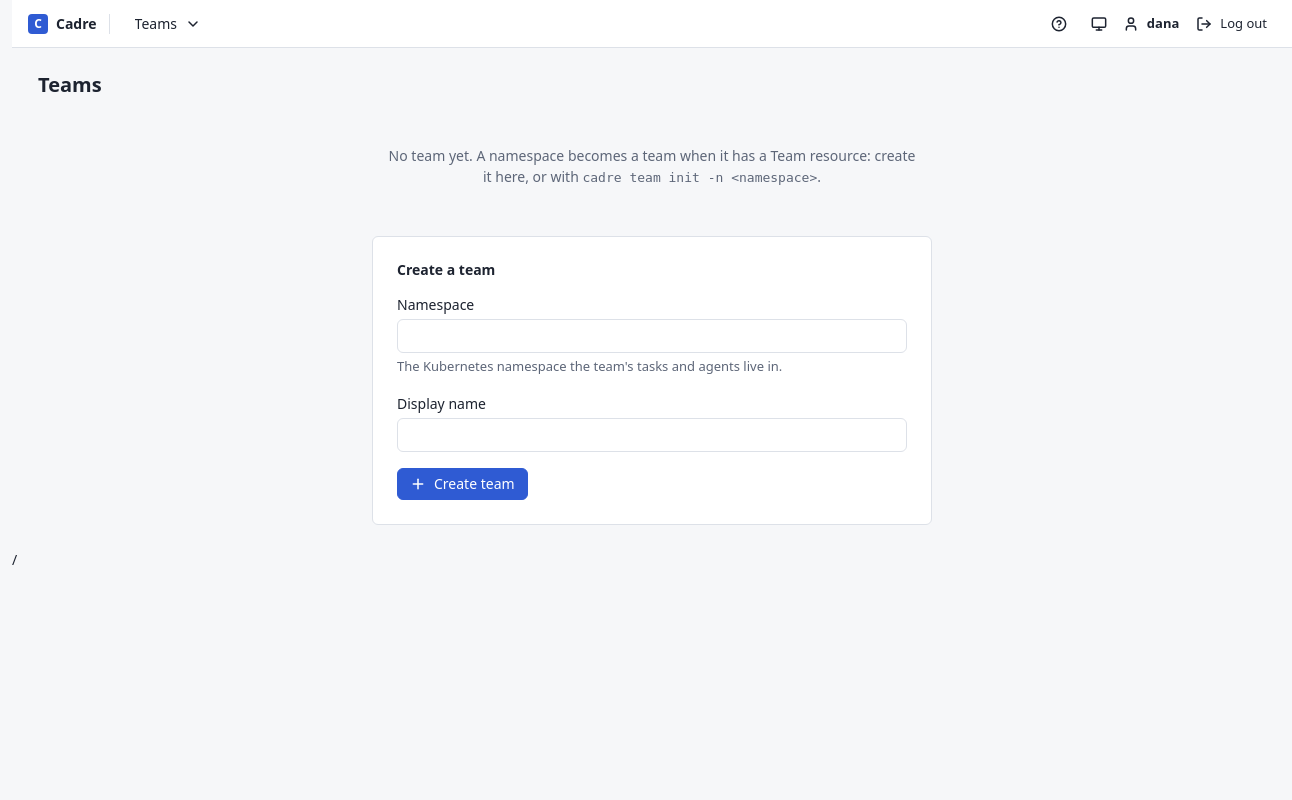
Test: Teams, with no team yet › says when the namespace already has a Team, with a link to it
Type "x" into the field labelled "Namespace" at (652, 336), box [397,319,907,353]
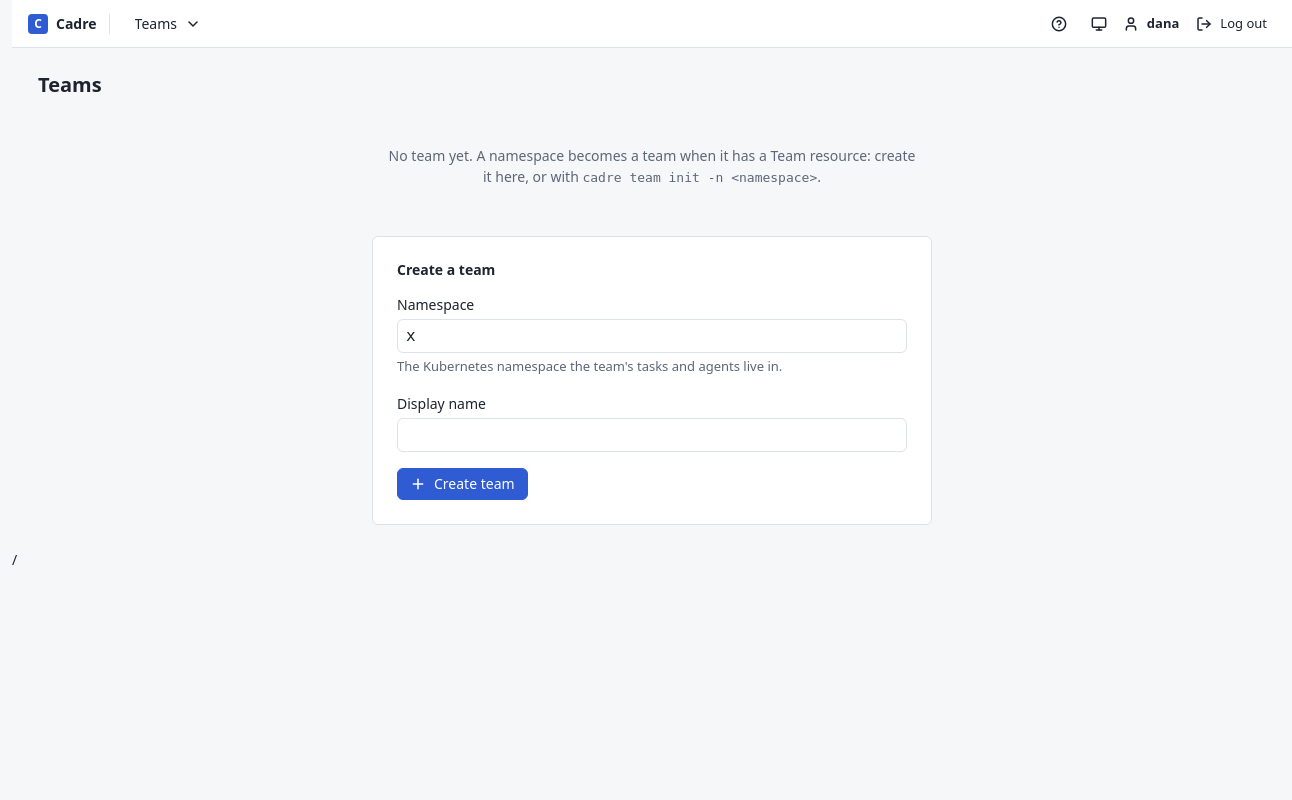
Click the button "Create team" at (462, 484), box [397,468,528,500]
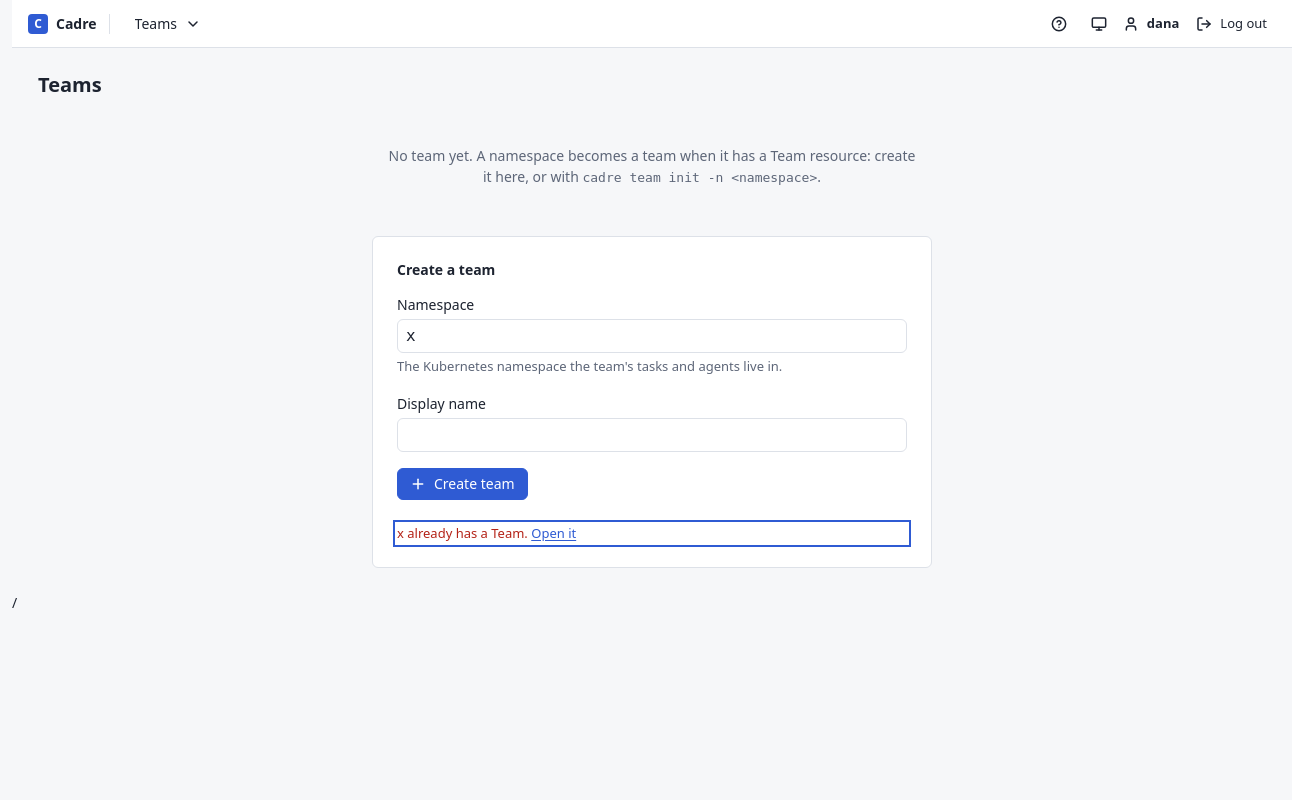
Result: the message reads "x already has a Team. Open it" at [397,524,576,542]
